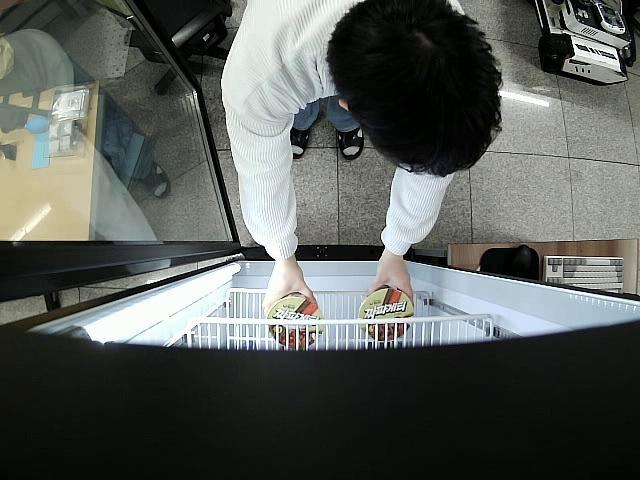03_chapagetti_L: (266, 295, 325, 349), (356, 289, 415, 340)
